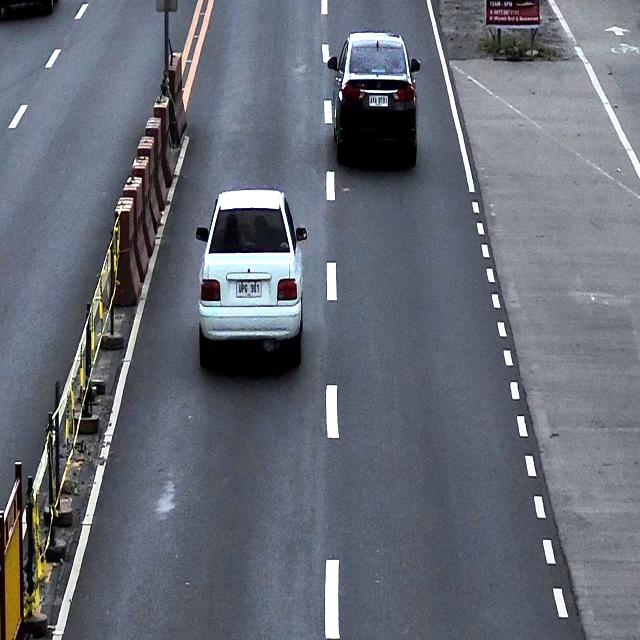Car: (195, 187, 307, 370), (324, 31, 420, 166)
License-Plate: (235, 278, 263, 298), (369, 94, 389, 108)
